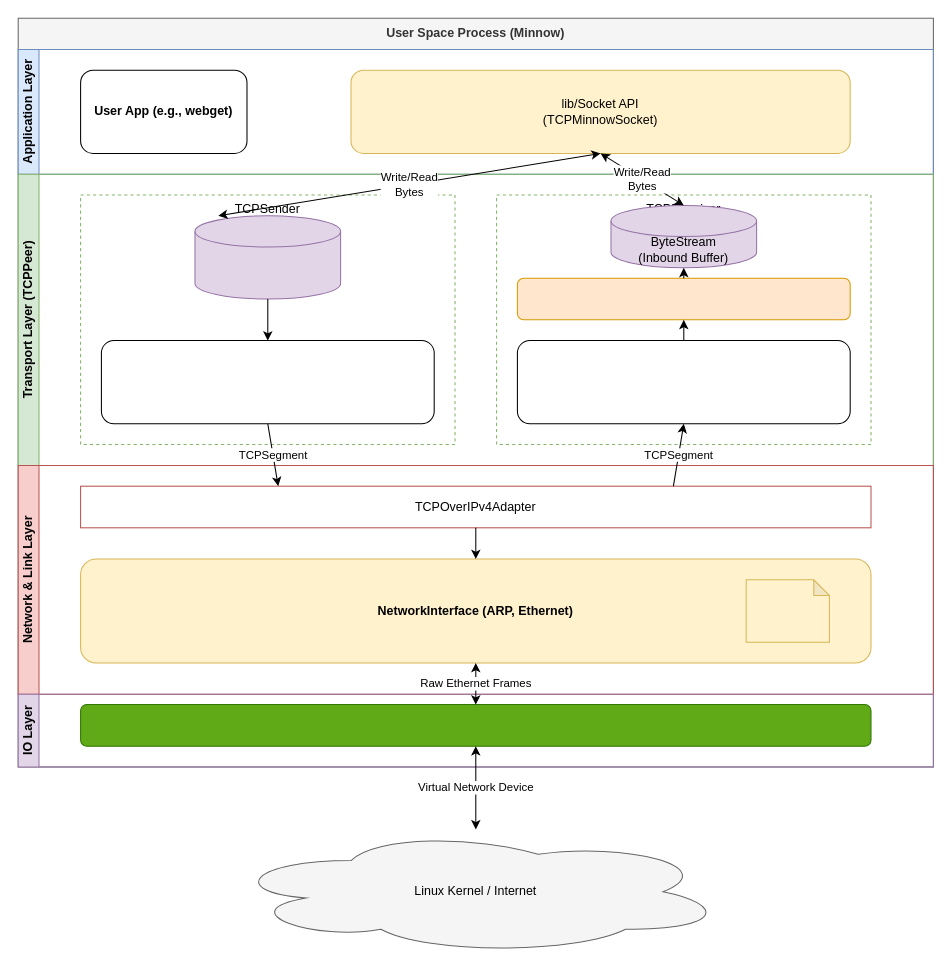
This 952x972 diagram has some shape labels left out. The centre of each missing label's shape, as x and y in pixels:
ARP Cache: the point at 787,610
ByteStream (Outbound Buffer): the point at 267,257
Reassembler: the point at 683,298
TCPReceiver Logic (Window Mgmt): the point at 683,382
TCPSender Logic (State Machine): the point at 267,382
TunTapFD (File Descriptor): the point at 475,725
